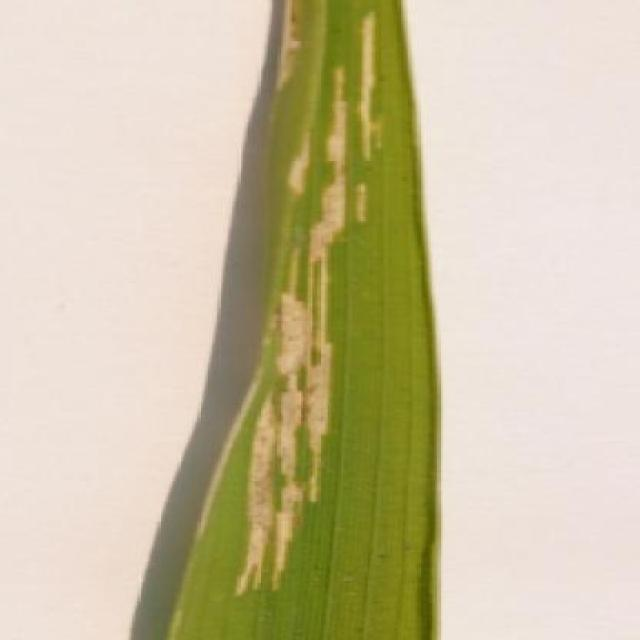Brown_Spot: (165, 0, 443, 640)
